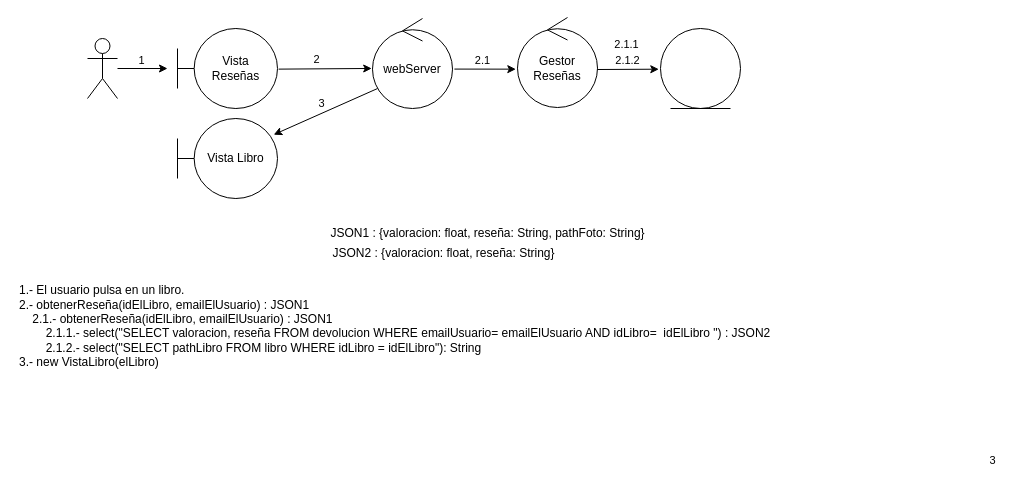
Some shapes in this 1012 by 485 pixel diagram are drawn without their labels. The shapes that lost their labels are listed below. From the top down, each one's centre as x and y in pixels, then its label:
At point (102, 68): "USUARIO".
At point (700, 68): "Conexión BBDD".
